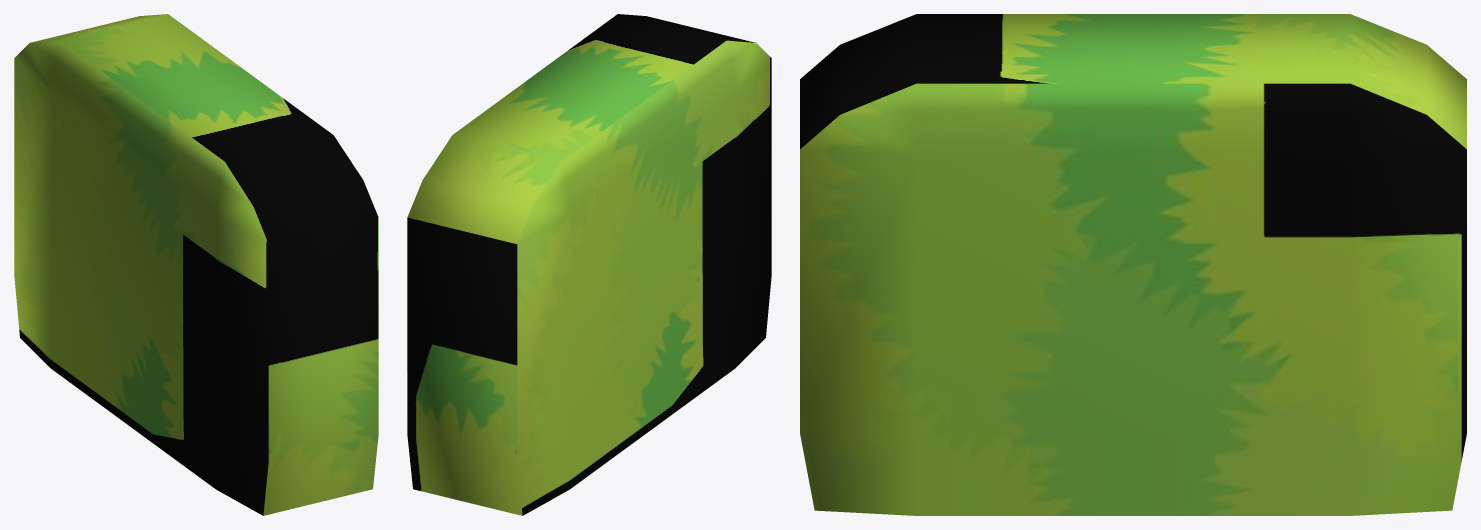
Rendered from ARBUSTO.obj.
The picture shows the model from 3 angles, left to right: view 1: azimuth 30°, elevation 25°; view 2: azimuth 150°, elevation 25°; view 3: azimuth 270°, elevation 25°; orthographic projection. The views are drawn at different scales.
Visible parts, largest first — view 1: Arbusto_Cube.022; view 2: Arbusto_Cube.022; view 3: Arbusto_Cube.022.
Part boxes in pixels (bbox=[...]): Arbusto_Cube.022: bbox=[14, 14, 378, 515]; Arbusto_Cube.022: bbox=[407, 14, 771, 515]; Arbusto_Cube.022: bbox=[800, 14, 1466, 515].
Size of the model in its own units: 3.91 by 9.64 by 13.65.
Materials: 1 (1 with a texture image).
